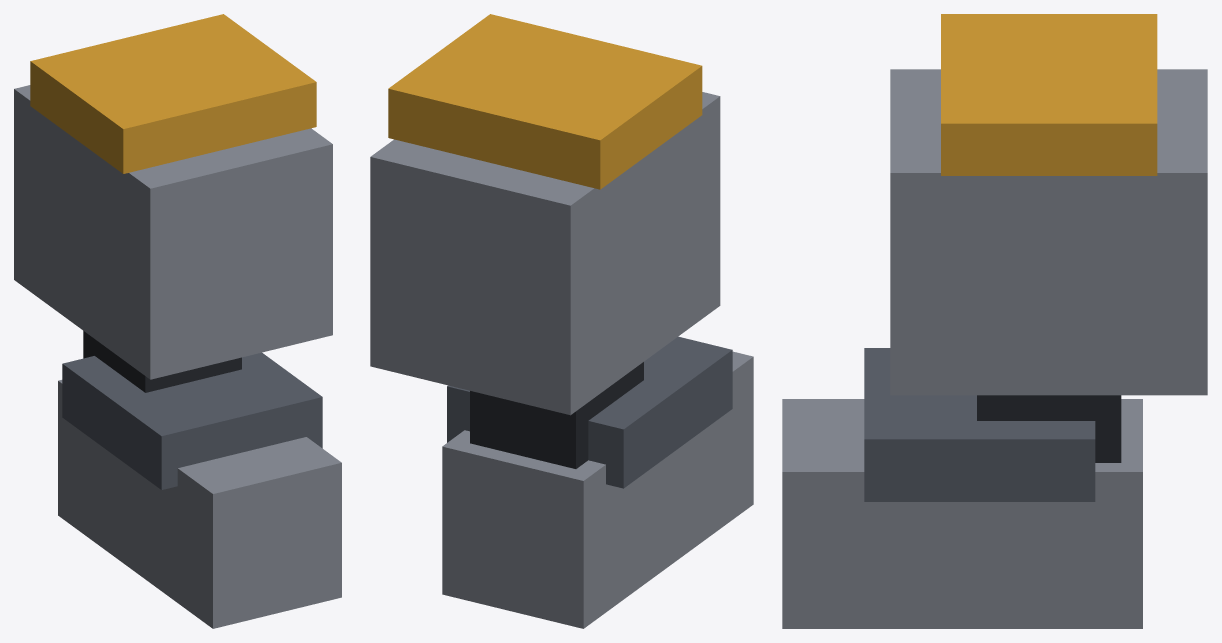
The model's file is arm_heavy.glb.
3 renders of one model, left to right at view 1: azimuth 30°, elevation 25°; view 2: azimuth 150°, elevation 25°; view 3: azimuth 270°, elevation 25°, orthographic. The views are drawn at different scales.
Visible parts, largest first — view 1: arm, fore, upper; view 2: arm, fore, upper; view 3: arm, fore, upper.
Boxes of the visible parts, box(x1,y1,x2,y2) form: arm: box(14, 14, 332, 379); fore: box(58, 352, 341, 628); upper: box(83, 331, 241, 392); arm: box(370, 14, 720, 415); fore: box(442, 336, 753, 628); upper: box(470, 362, 643, 468); arm: box(890, 14, 1207, 395); fore: box(782, 348, 1142, 628); upper: box(977, 395, 1121, 462).
Size of the model in its own units: 0.45 by 1.01 by 0.7375.
